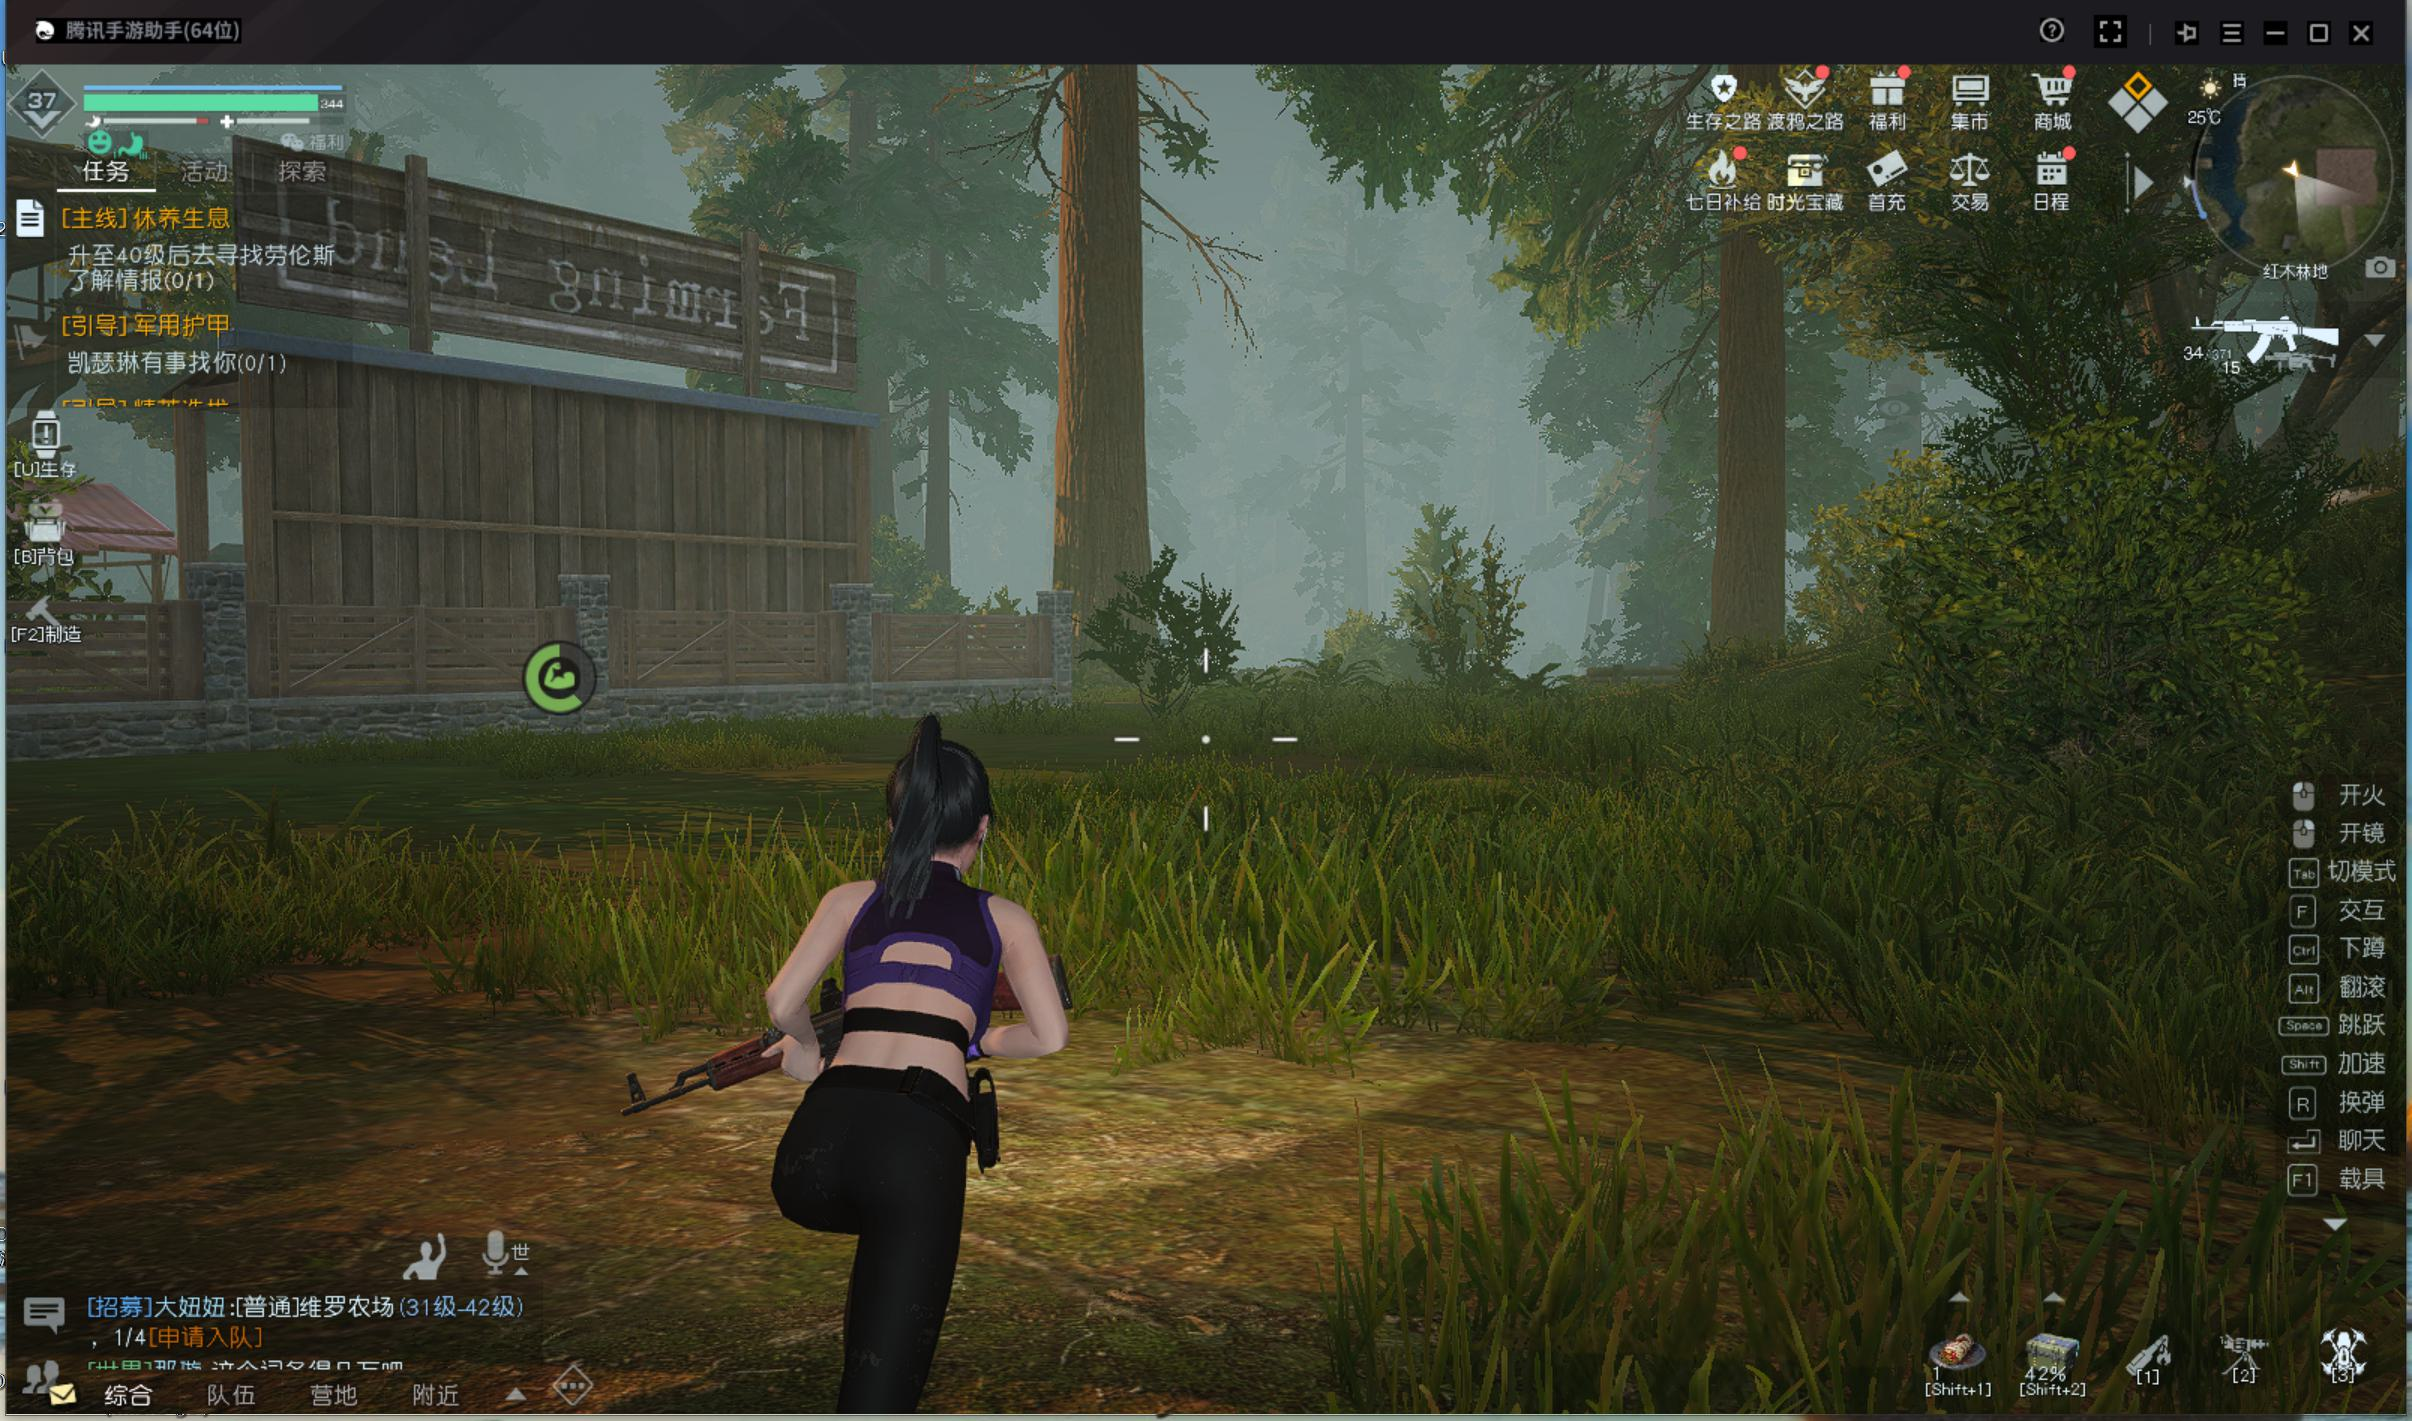tree: (1033, 100, 1170, 714), (1703, 217, 1805, 694)
